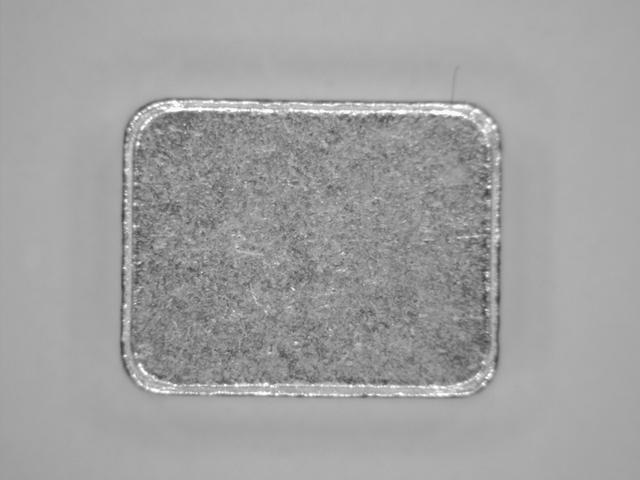nok: (119, 95, 514, 402)
